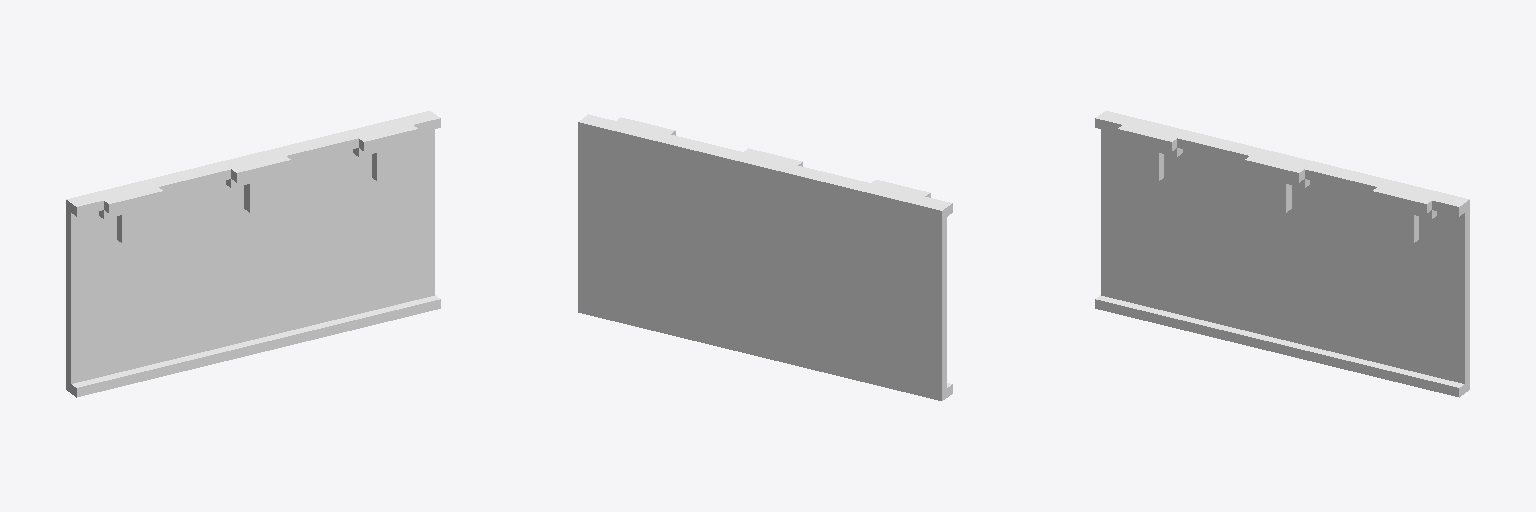
Rendered from glue_wall_c.obj.
The picture shows the model from 3 angles: view 1: azimuth 30°, elevation 25°; view 2: azimuth 150°, elevation 25°; view 3: azimuth 330°, elevation 25°; orthographic projection.
Parts seen in each view (by area): view 1: object 1; view 2: object 1; view 3: object 1.
Boxes of the visible parts, <box> form: object 1: <box>66,111,440,397</box>; object 1: <box>578,114,952,400</box>; object 1: <box>1095,111,1469,397</box>.
Bounding box in the file's own units: 4 × 2 × 0.3.